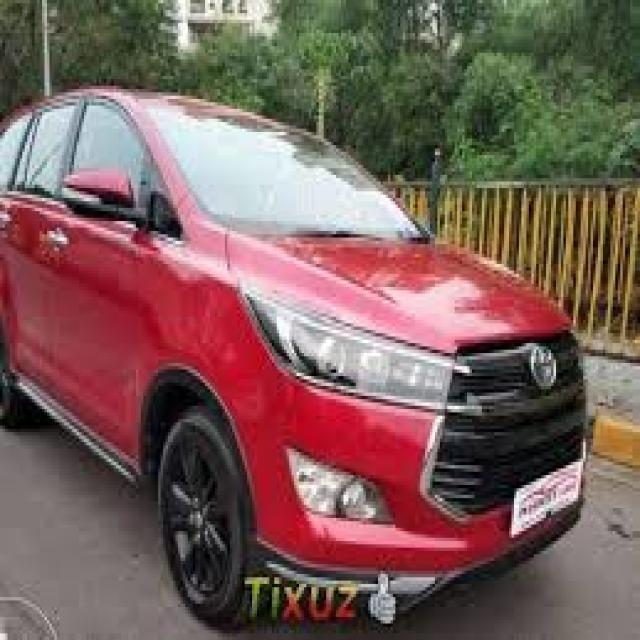light_vehicle: (0, 87, 588, 629)
